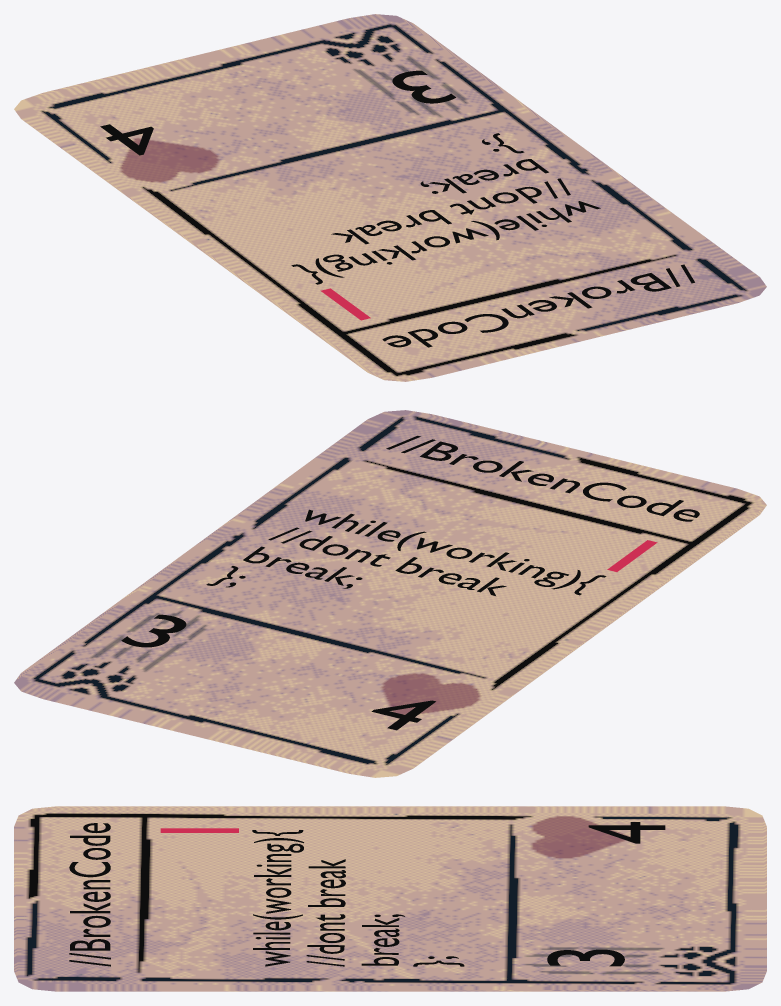
The model's file is BrokenCode.glb.
The picture shows the model from 3 angles, top to bottom: view 1: azimuth 30°, elevation 25°; view 2: azimuth 150°, elevation 25°; view 3: azimuth 270°, elevation 25°; orthographic projection. The views are drawn at different scales.
Visible parts, largest first — view 1: //BrokenCode; view 2: //BrokenCode; view 3: //BrokenCode.
Part boxes in pixels (bbox=[...]): //BrokenCode: bbox=[14, 14, 766, 381]; //BrokenCode: bbox=[14, 410, 766, 777]; //BrokenCode: bbox=[14, 806, 766, 991].
Size of what is drawn, in the model's own units: 44.93 by 0.4028 by 77.22.
5 materials, 1 textured.
